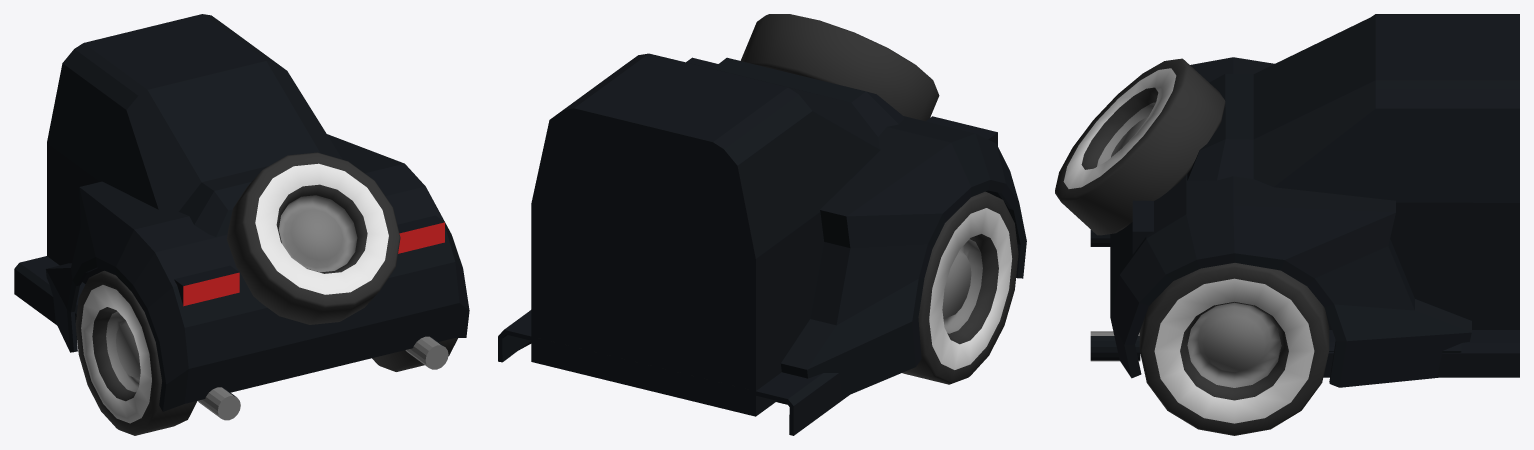
Rendered from VintageCar_Back.fbx.
3 views of the same model, side by side, from view 1: azimuth 30°, elevation 25°; view 2: azimuth 150°, elevation 25°; view 3: azimuth 270°, elevation 25° (orthographic). The views are drawn at different scales.
Parts seen in each view (by area): view 1: Back; view 2: Back; view 3: Back.
Part boxes in pixels (box(x1,y1,x2,y2)): Back: box(14, 14, 469, 435); Back: box(498, 14, 1026, 435); Back: box(1055, 14, 1519, 435).
Size of the model in its own units: 159 by 135 by 186.
